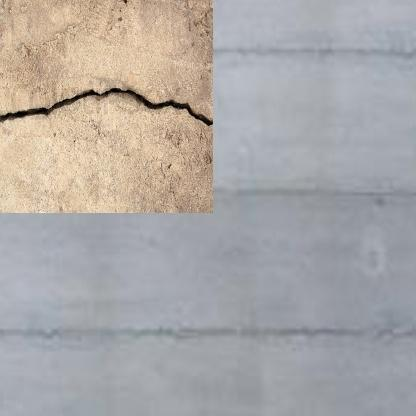Cracks: (0, 79, 196, 119)
